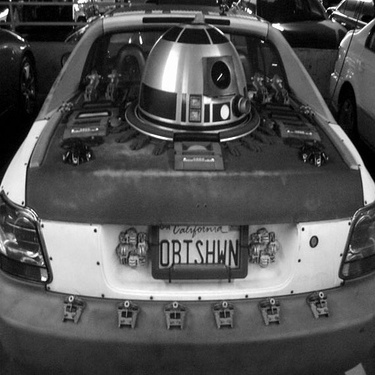car: (3, 3, 369, 368), (325, 14, 371, 153), (221, 2, 348, 52), (1, 26, 40, 125), (327, 1, 368, 31)
